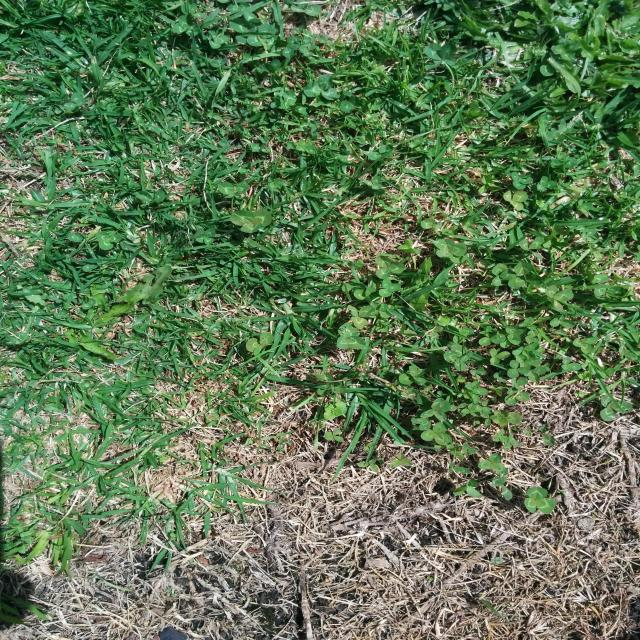Four Leaf Clover: (443, 344, 473, 371)
